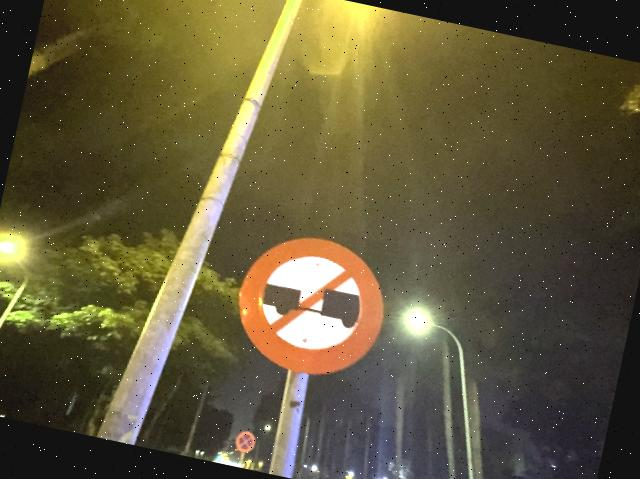cam-xe-somi-romooc: (226, 223, 397, 389)
